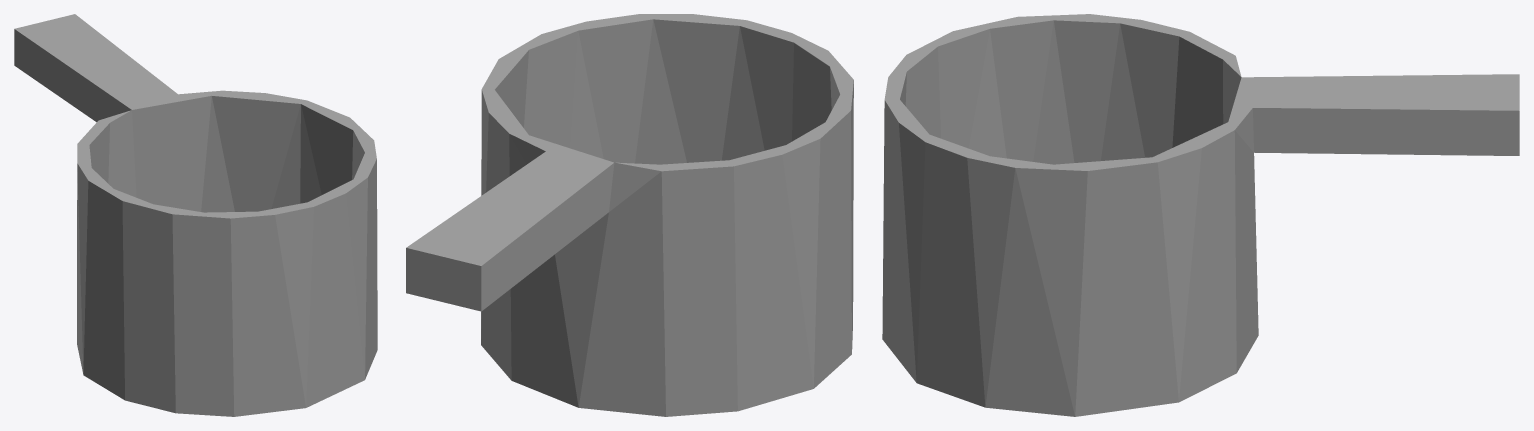
The model's file is Pot.fbx.
The picture shows the model from 3 angles, left to right: view 1: azimuth 30°, elevation 25°; view 2: azimuth 150°, elevation 25°; view 3: azimuth 270°, elevation 25°; orthographic projection. The views are drawn at different scales.
Visible parts, largest first — view 1: Cylinder; view 2: Cylinder; view 3: Cylinder.
Boxes of the visible parts, x1,y1,x2,y2 form: Cylinder: (14,14,377,416); Cylinder: (406,14,853,416); Cylinder: (882,14,1519,416).
Size of the model in its own units: 201 by 145 by 343.
